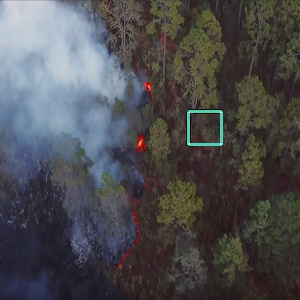square: (185, 108, 225, 147)
